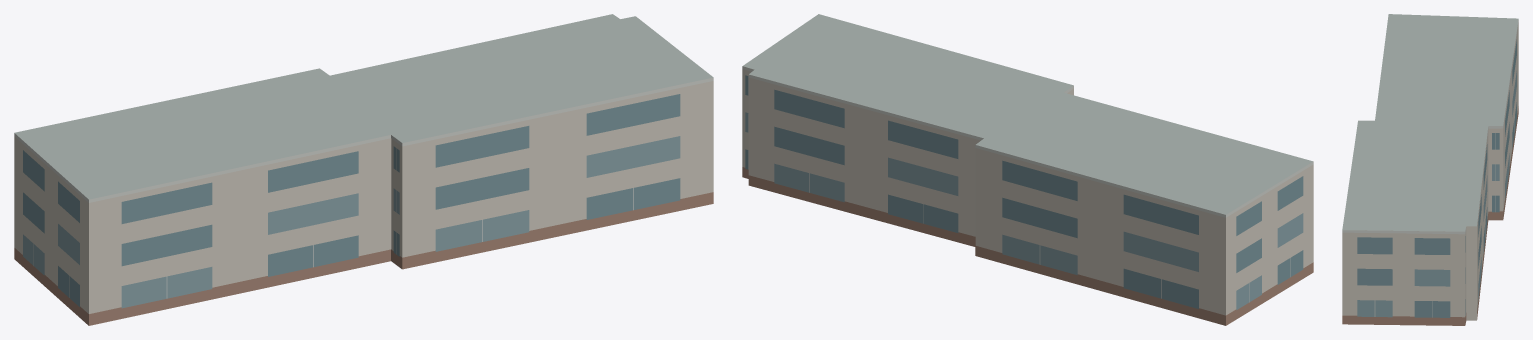
File: survey-upis-32886319.glb
3 renders of one model, left to right at view 1: azimuth 30°, elevation 25°; view 2: azimuth 150°, elevation 25°; view 3: azimuth 270°, elevation 25°, orthographic. The views are drawn at different scales.
Parts seen in each view (by area): view 1: survey-upis-32886319.tmp; view 2: survey-upis-32886319.tmp; view 3: survey-upis-32886319.tmp.
Part boxes in pixels (x1=…): survey-upis-32886319.tmp: x1=14, y1=14, x2=713, y2=325; survey-upis-32886319.tmp: x1=742, y1=14, x2=1313, y2=325; survey-upis-32886319.tmp: x1=1342, y1=14, x2=1518, y2=325.
Bounding box in the file's own units: 45.36 × 9.15 × 15.54.
